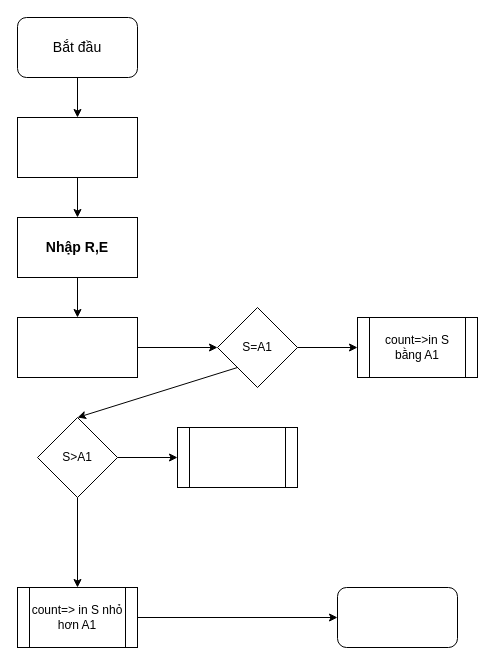
Some shapes in this 495 by 665 pixel diagram are drawn without their labels. Here are the shapes that lost their labels. From the top down, the box of each, then its label:
(16, 116, 138, 178): Khai báo float E,R,S,A1
(16, 316, 138, 378): S=3,14*R A1=E*E
(176, 426, 298, 488): count=> in P lớn hơn A
